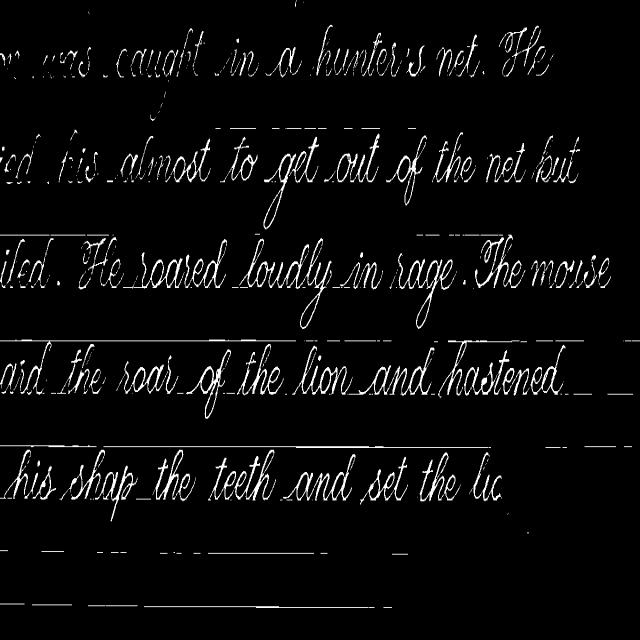noise: (0, 130, 99, 185), (0, 47, 105, 84), (103, 444, 491, 450), (0, 338, 296, 342), (142, 603, 376, 608), (226, 125, 382, 132), (206, 550, 316, 556), (447, 340, 528, 348), (0, 444, 100, 449), (540, 444, 618, 450), (535, 340, 584, 348), (87, 604, 140, 609), (0, 602, 26, 607), (40, 549, 65, 554), (159, 550, 184, 554), (390, 551, 408, 556), (30, 603, 74, 605), (400, 127, 416, 132), (110, 550, 128, 553), (344, 340, 392, 341), (0, 548, 9, 553), (96, 550, 104, 554), (384, 605, 392, 608), (106, 180, 113, 181)
not-noise: (0, 235, 332, 328), (212, 26, 486, 78), (0, 448, 136, 501), (475, 235, 610, 288), (444, 341, 565, 396), (390, 253, 454, 328), (116, 28, 206, 77), (120, 136, 210, 182), (264, 136, 320, 208), (358, 347, 434, 396), (210, 449, 276, 499), (284, 454, 354, 500), (322, 132, 380, 183), (498, 26, 554, 77), (188, 350, 230, 418), (386, 136, 426, 205), (0, 341, 51, 394), (116, 356, 178, 394), (531, 136, 580, 183), (431, 132, 476, 183), (60, 343, 104, 394), (298, 348, 346, 394), (360, 458, 410, 502), (418, 452, 462, 501), (154, 450, 194, 500), (220, 137, 258, 183), (468, 452, 502, 500), (486, 143, 526, 183), (248, 363, 284, 395), (345, 261, 382, 289), (237, 351, 256, 395), (258, 344, 271, 376), (252, 378, 258, 393)
